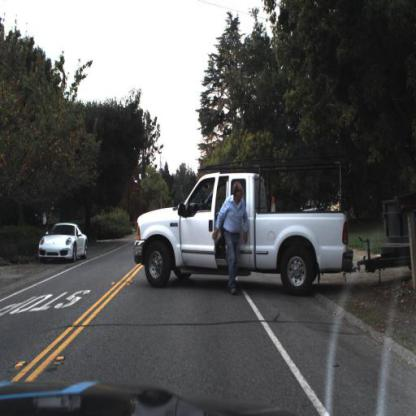car: (34, 213, 89, 267)
pedestrian: (213, 174, 255, 290)
truck: (117, 169, 412, 293)
